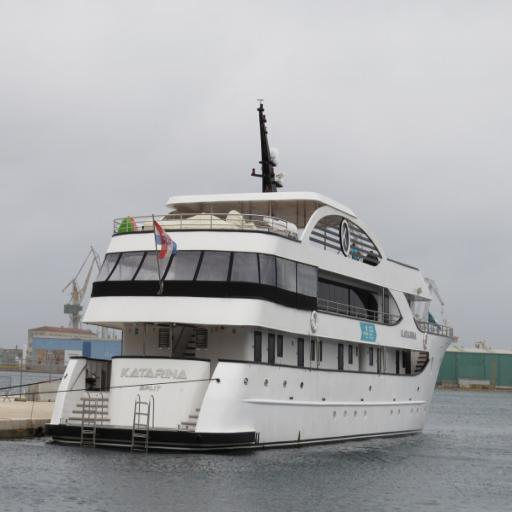cruises: (41, 97, 457, 459)
